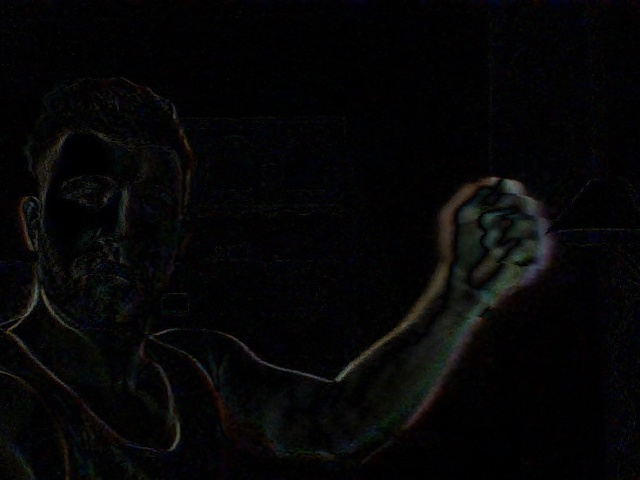hand_fi: (432, 162, 559, 311)
